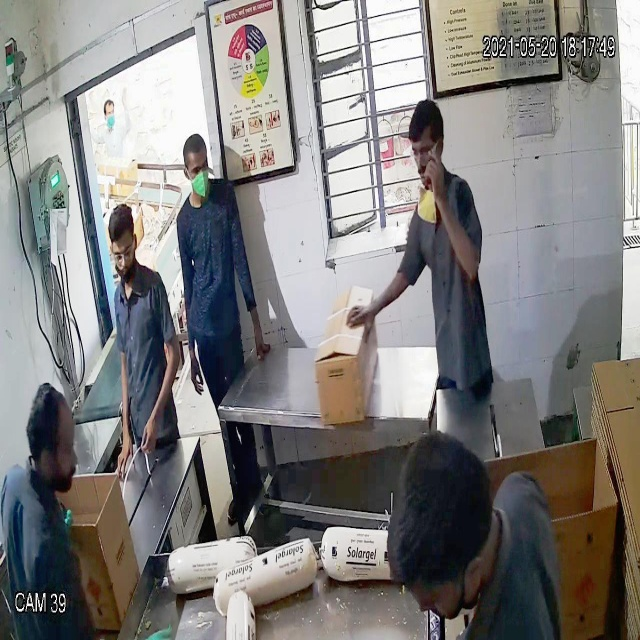Gafas: (409, 139, 442, 171), (106, 237, 140, 265)
Sin_gafas: (182, 158, 213, 181)
